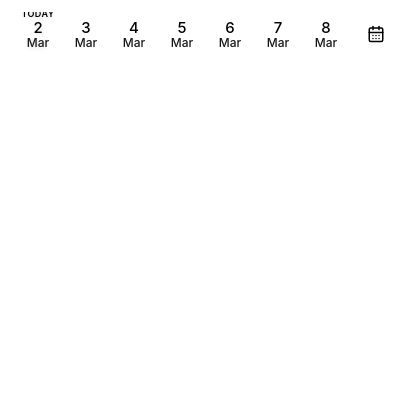
Calendar dropdown › navigates to the next month
Click the button named "open calendar".
click(376, 34)  # box top-left (356, 18), bottom-right (396, 52)
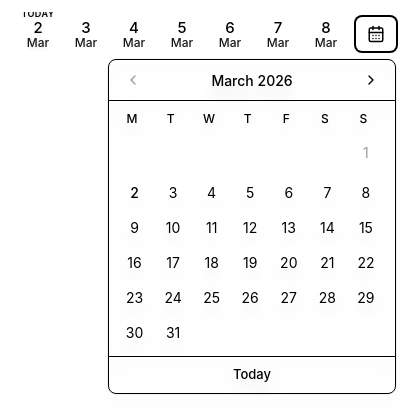
Click the button named "next month".
click(371, 80)  # box top-left (359, 68), bottom-right (383, 92)
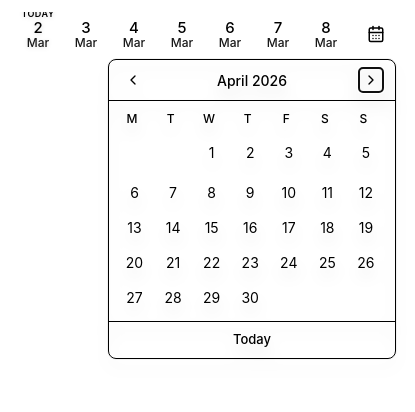
Expected: the button named "previous month" is enabled, top-left (121, 68), bottom-right (145, 92)
